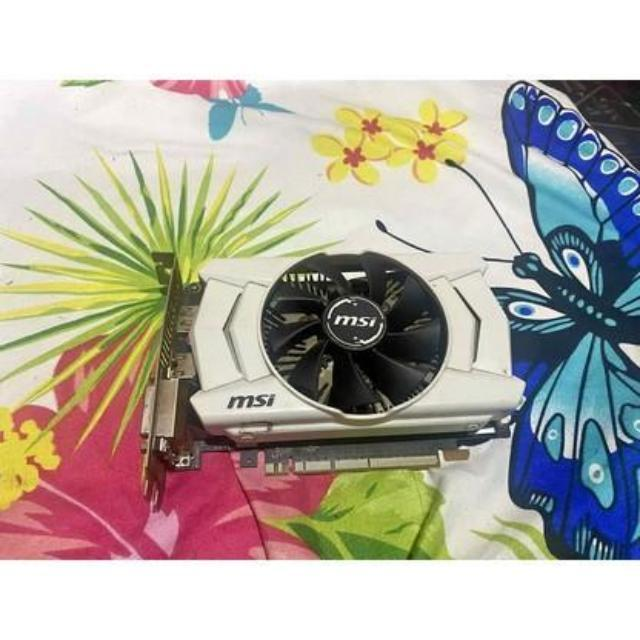GPU: (155, 252, 510, 470)
